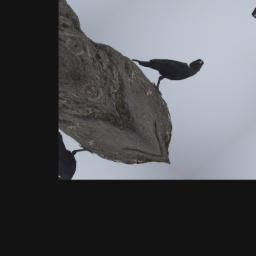Crow: (127, 27, 208, 100)
